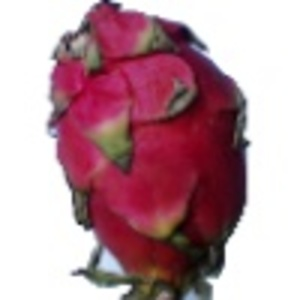pitaia: (47, 1, 252, 300)
